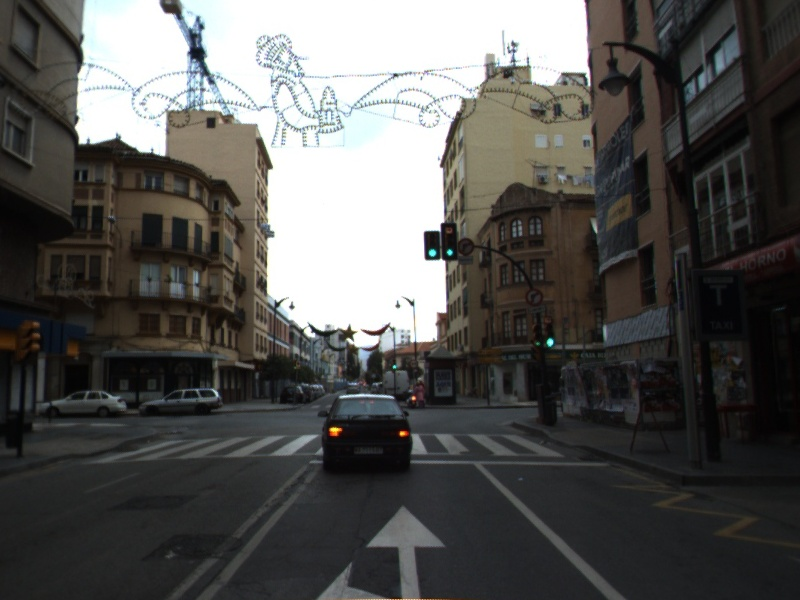STRAIGHT_LEFT: (310, 502, 449, 600)
